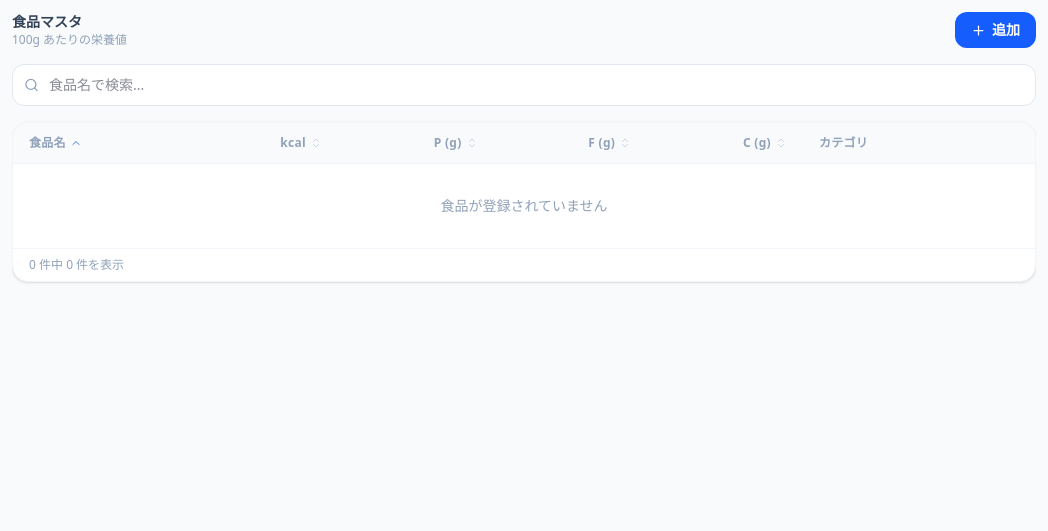
Test: FoodTable — 保存失敗 › insertFood がエラーを返すとエラーメッセージが表示される
The width and height of the screenshot is (1048, 531).
Click the button "追加": click(996, 30) top-left (955, 12), bottom-right (1036, 48)
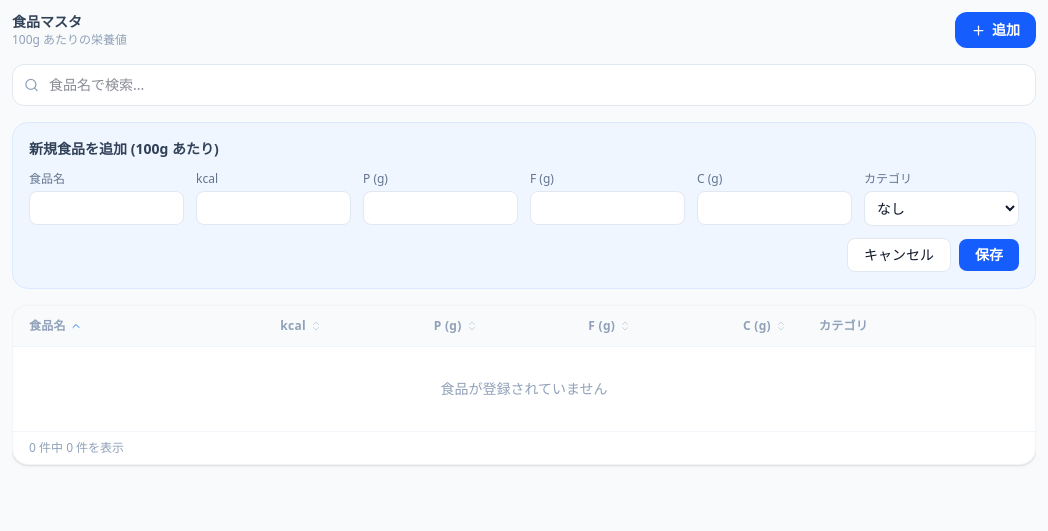
In the 2nd field: (106, 208) top-left (29, 191), bottom-right (184, 225), type "重複食品"
In the 1st number field: (274, 208) top-left (196, 191), bottom-right (351, 225), type "100"
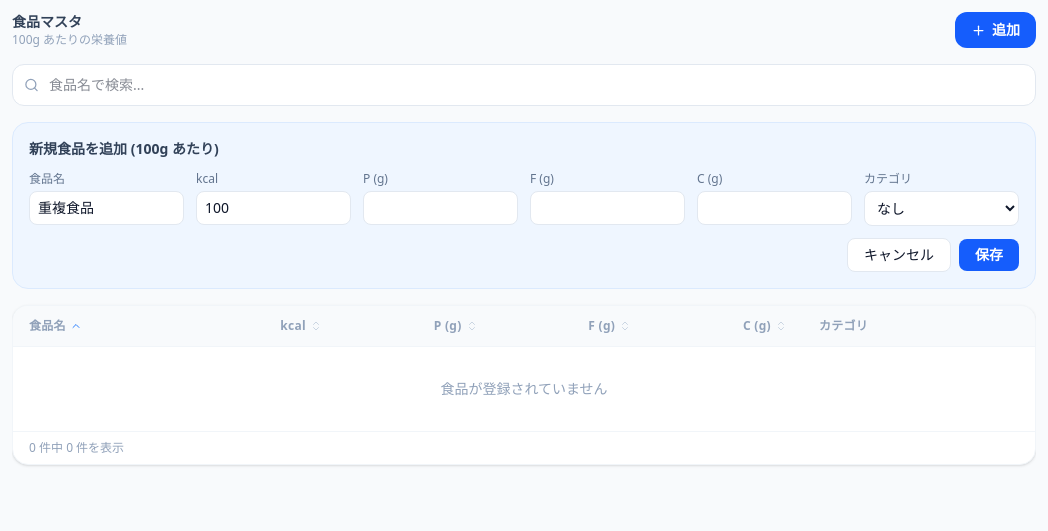
In the 2nd number field: (440, 208) top-left (363, 191), bottom-right (518, 225), type "10"
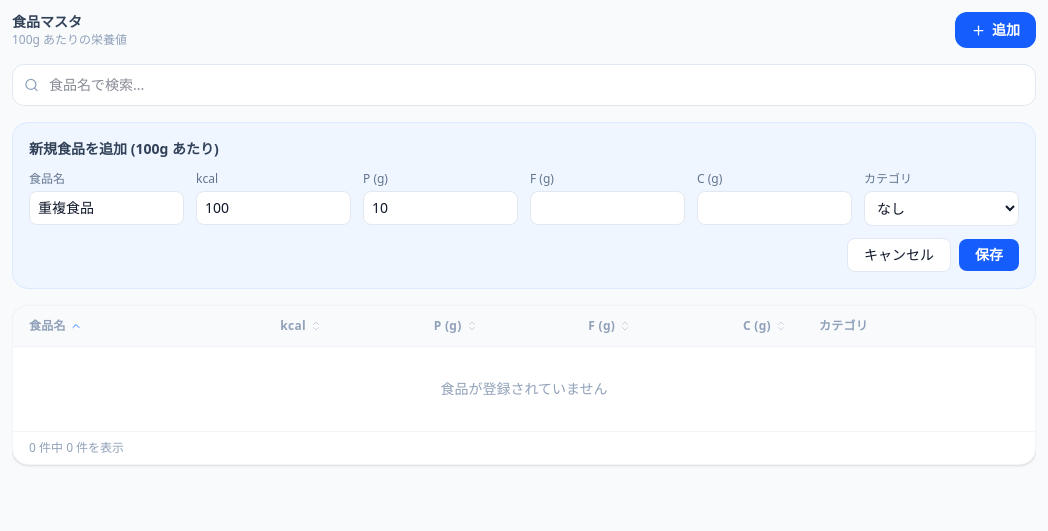
In the 3rd number field: (608, 208) top-left (530, 191), bottom-right (685, 225), type "5"
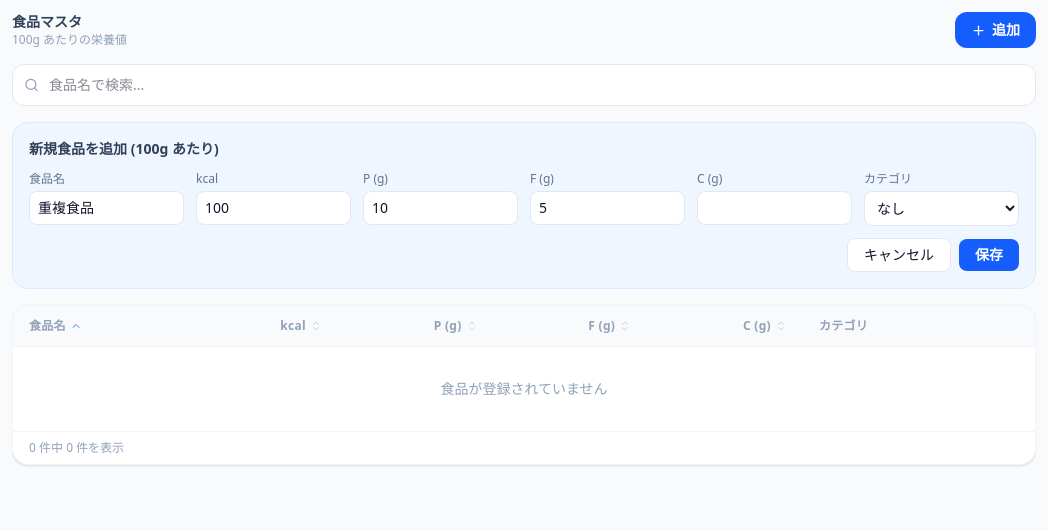
In the 4th number field: (774, 208) top-left (697, 191), bottom-right (852, 225), type "10"
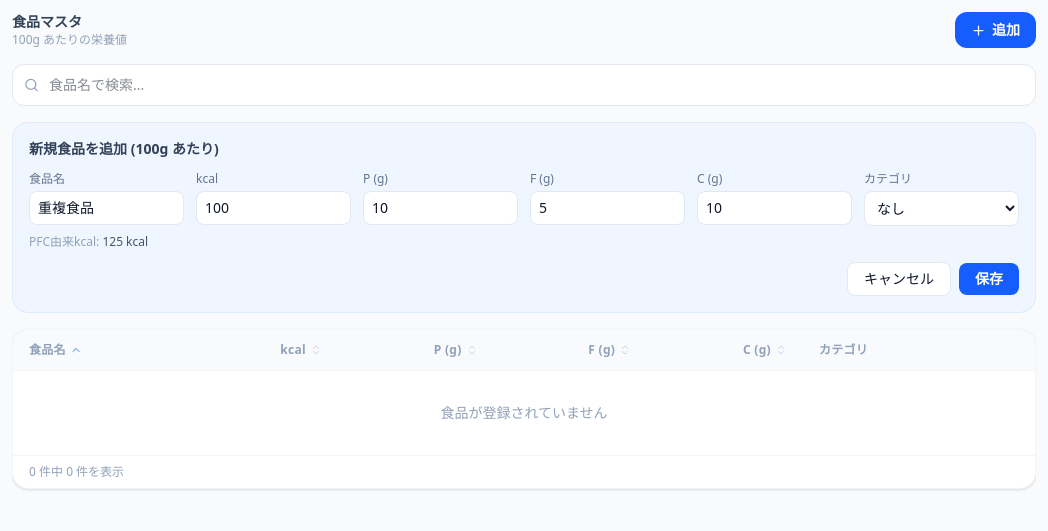
Click the button "保存": click(989, 279) top-left (959, 263), bottom-right (1019, 295)
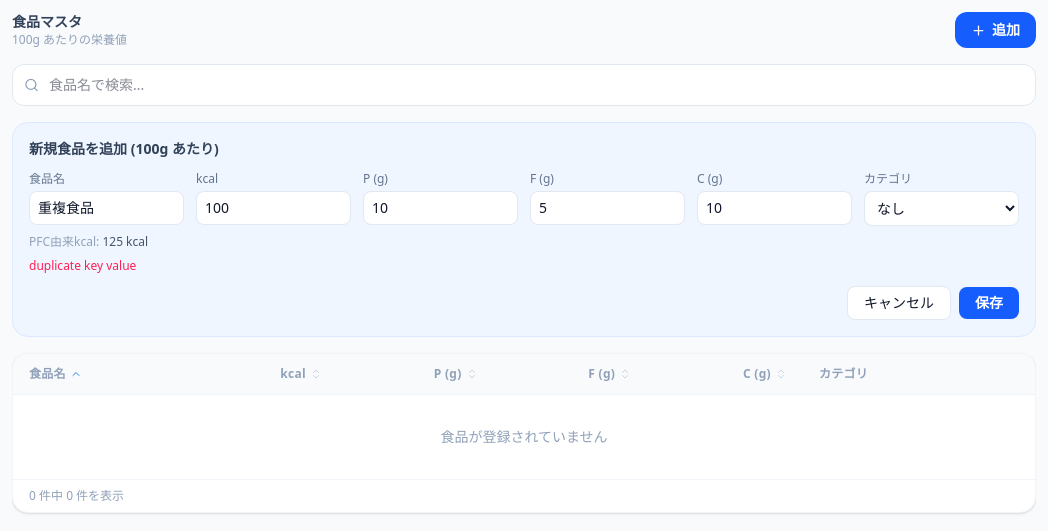
Expected: the text "duplicate key value" is shown, top-left (29, 257), bottom-right (136, 274)
